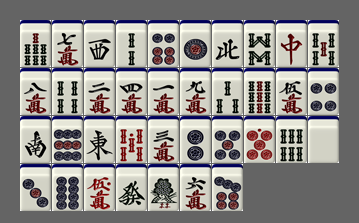0m: (84, 164, 115, 211)
0p: (244, 116, 275, 163)
0s: (116, 116, 147, 163)
1m: (148, 68, 179, 115)
1p: (180, 20, 211, 67)
1s: (148, 164, 179, 211)
1z: (84, 116, 115, 163)
2m: (84, 68, 115, 115)
2p: (180, 116, 211, 163)
2s: (116, 20, 147, 67)
2z: (20, 116, 51, 163)
3m: (148, 116, 179, 163)
3p: (20, 164, 51, 211)
3s: (212, 68, 243, 115)
3z: (84, 20, 115, 67)
4m: (116, 68, 147, 115)
4p: (308, 68, 339, 115)
4s: (52, 68, 83, 115)
4z: (212, 20, 243, 67)
5m: (276, 68, 307, 115)
5p: (212, 116, 243, 163)
5s: (308, 20, 339, 67)
5z: (308, 116, 339, 163)
6m: (180, 164, 211, 211)
6p: (148, 20, 179, 67)
6s: (276, 116, 307, 163)
6z: (116, 164, 147, 211)
7m: (52, 20, 83, 67)
7p: (212, 164, 243, 211)
7s: (20, 20, 51, 67)
7z: (276, 20, 307, 67)
8m: (20, 68, 51, 115)
8p: (52, 164, 83, 211)
8s: (244, 20, 275, 67)
9m: (180, 68, 211, 115)
9p: (52, 116, 83, 163)
9s: (244, 68, 275, 115)
